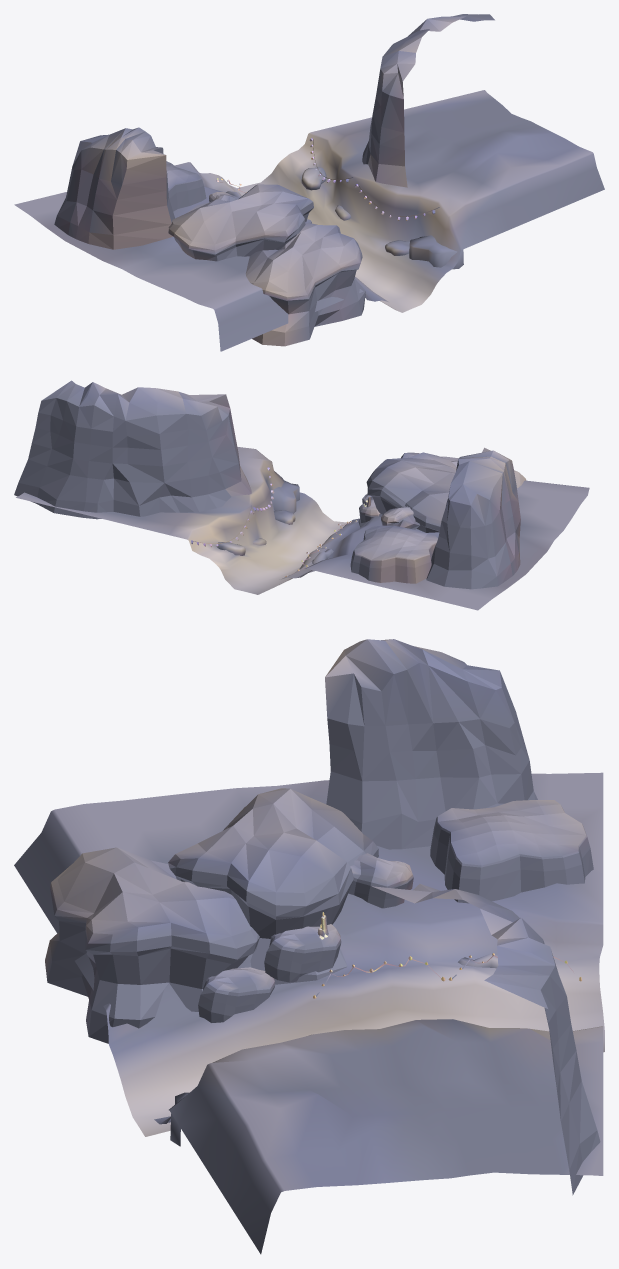
File: Arctic_Luge_Curve_left_15_A.glb
3 views of the same model, one above another, from view 1: azimuth 30°, elevation 25°; view 2: azimuth 150°, elevation 25°; view 3: azimuth 270°, elevation 25° (orthographic). The views are drawn at different scales.
Visible parts, largest first — view 1: Arctic_Luge_Curve_left_15_A, Arctic_Luge_LargeIceRock_prop, Arctic_Luge_LargeRock_prop (1), Arctic_Luge_LargeRock_prop, Arctic_Luge_IceWall_prop, Arctic_Luge_MediumIceRock_prop; view 2: Arctic_Luge_IceWall_prop, Arctic_Luge_Curve_left_15_A, Arctic_Luge_LargeIceRock_prop, Arctic_Luge_LargeRock_prop, Arctic_Luge_MediumIceRock_prop, Arctic_Luge_SmalRock_prop, Arctic_Luge_SmalRock_prop (1); view 3: Arctic_Luge_Curve_left_15_A, Arctic_Luge_LargeIceRock_prop, Arctic_Luge_LargeRock_prop (1), Arctic_Luge_LargeRock_prop, Arctic_Luge_MediumIceRock_prop, Arctic_Luge_IceWall_prop, Arctic_Luge_SmalRock_prop (1), Arctic_Luge_SmalRock_prop (2), Arctic_Luge_SmalRock_prop.
Boxes of the visible parts, x1=… form: Arctic_Luge_Curve_left_15_A: x1=14, y1=90, x2=604, y2=351; Arctic_Luge_LargeIceRock_prop: x1=54, y1=127, x2=174, y2=249; Arctic_Luge_LargeRock_prop (1): x1=245, y1=222, x2=365, y2=346; Arctic_Luge_LargeRock_prop: x1=168, y1=184, x2=313, y2=261; Arctic_Luge_IceWall_prop: x1=362, y1=14, x2=494, y2=187; Arctic_Luge_MediumIceRock_prop: x1=166, y1=161, x2=206, y2=211; Arctic_Luge_IceWall_prop: x1=14, y1=380, x2=251, y2=519; Arctic_Luge_Curve_left_15_A: x1=16, y1=447, x2=589, y2=610; Arctic_Luge_LargeIceRock_prop: x1=426, y1=447, x2=520, y2=589; Arctic_Luge_LargeRock_prop: x1=358, y1=452, x2=456, y2=532; Arctic_Luge_MediumIceRock_prop: x1=350, y1=525, x2=437, y2=583; Arctic_Luge_SmalRock_prop: x1=381, y1=506, x2=419, y2=529; Arctic_Luge_SmalRock_prop (1): x1=359, y1=494, x2=380, y2=522; Arctic_Luge_Curve_left_15_A: x1=14, y1=772, x2=604, y2=1254; Arctic_Luge_LargeIceRock_prop: x1=325, y1=639, x2=537, y2=849; Arctic_Luge_LargeRock_prop (1): x1=45, y1=847, x2=259, y2=1043; Arctic_Luge_LargeRock_prop: x1=168, y1=788, x2=378, y2=984; Arctic_Luge_MediumIceRock_prop: x1=430, y1=800, x2=593, y2=903; Arctic_Luge_IceWall_prop: x1=372, y1=884, x2=600, y2=1195; Arctic_Luge_SmalRock_prop (1): x1=264, y1=924, x2=341, y2=982; Arctic_Luge_SmalRock_prop (2): x1=198, y1=967, x2=275, y2=1022; Arctic_Luge_SmalRock_prop: x1=348, y1=853, x2=413, y2=908.
Size of the model in its own units: 27.23 by 9.53 by 16.08.
